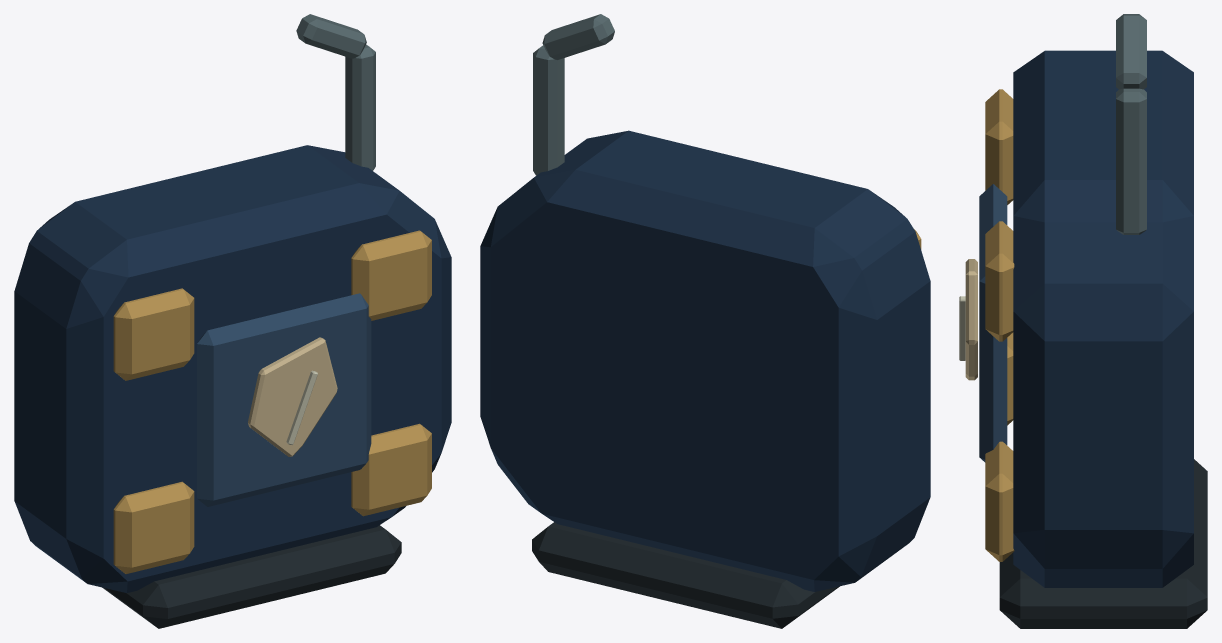
The model's file is REVIVE_TOKEN.lo.glb.
The picture shows the model from 3 angles, left to right: view 1: azimuth 30°, elevation 25°; view 2: azimuth 150°, elevation 25°; view 3: azimuth 270°, elevation 25°; orthographic projection. The views are drawn at different scales.
Visible parts, largest first — view 1: Body_Mesh; view 2: Body_Mesh; view 3: Body_Mesh.
Part boxes in pixels (x1,y1,x2,y2): Body_Mesh: (14, 14, 451, 628); Body_Mesh: (480, 14, 930, 628); Body_Mesh: (959, 14, 1207, 628).
Bounding box in the file's own units: 0.73 × 0.9544 × 0.3583.
